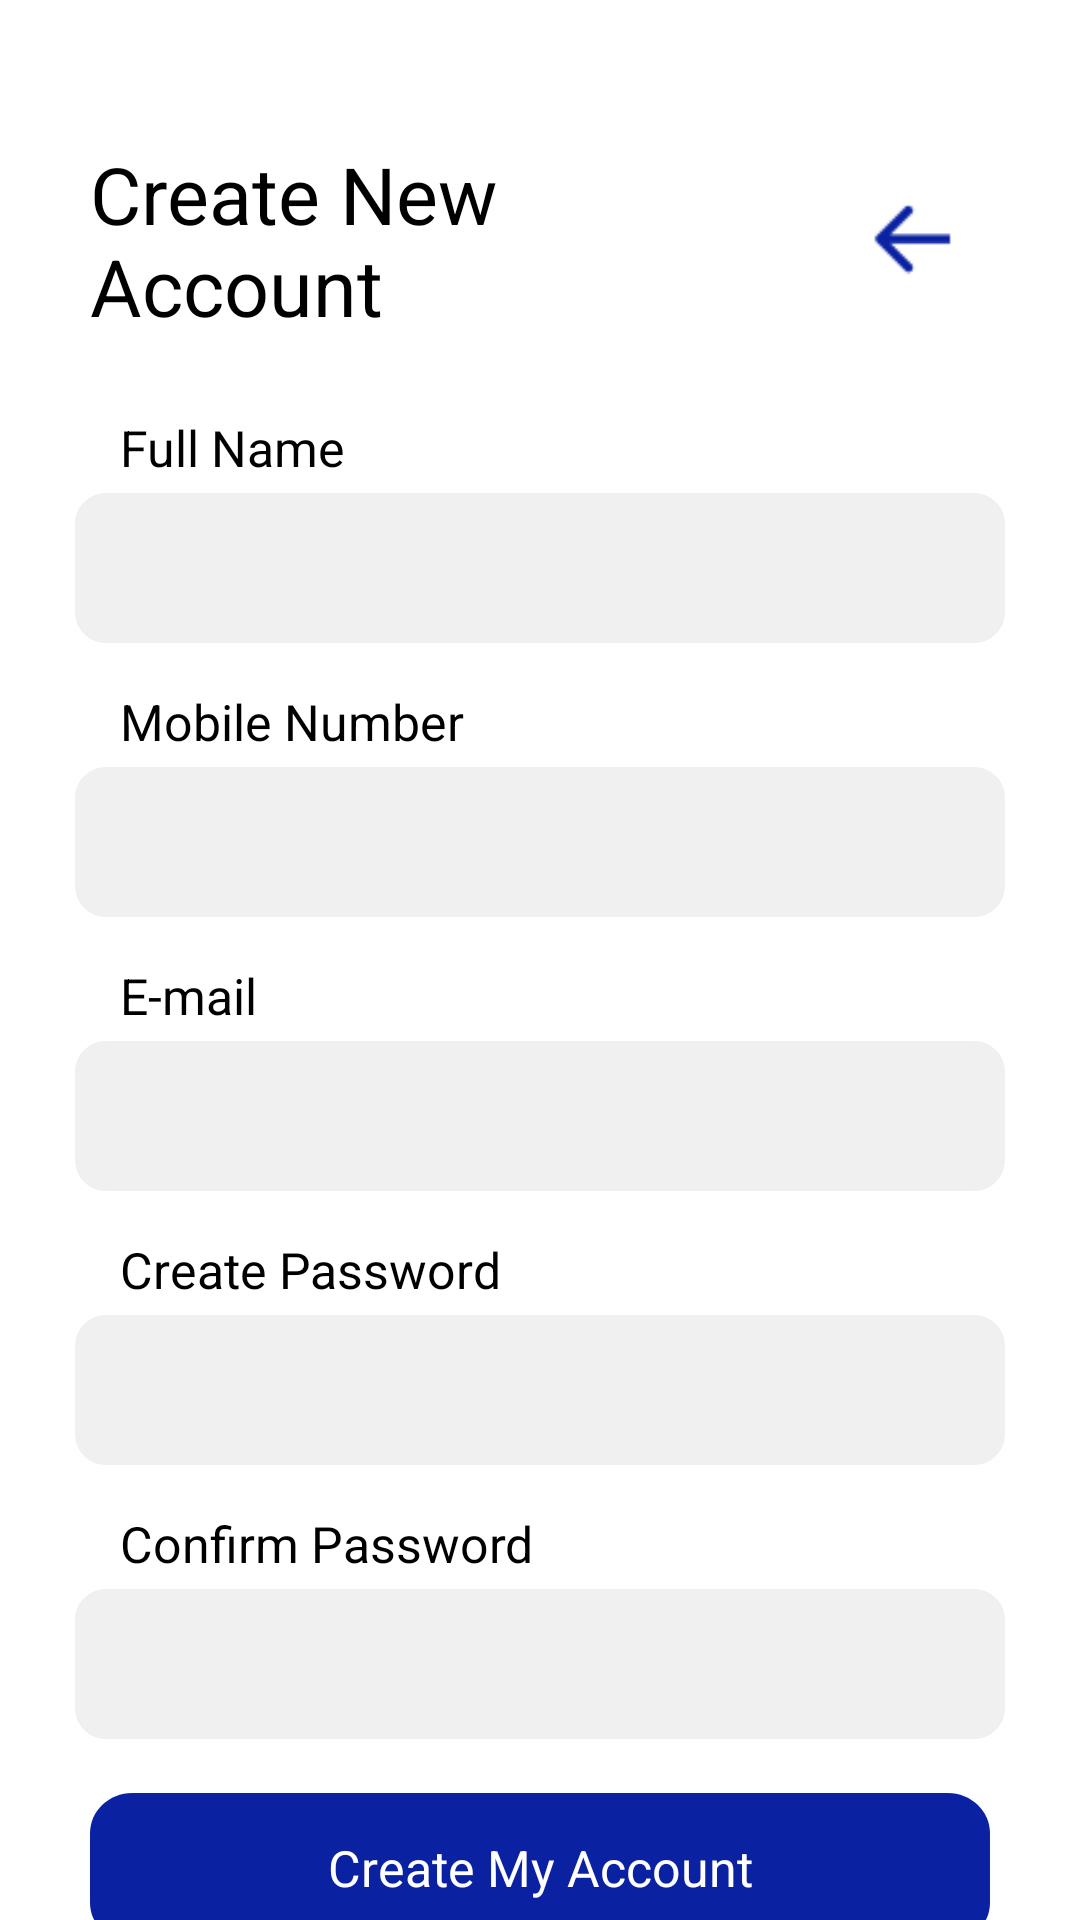

Icons on this 1080×1920 Android screen, each with its box as (x1, y1, x2, y2):
back: (874, 205, 951, 274)
